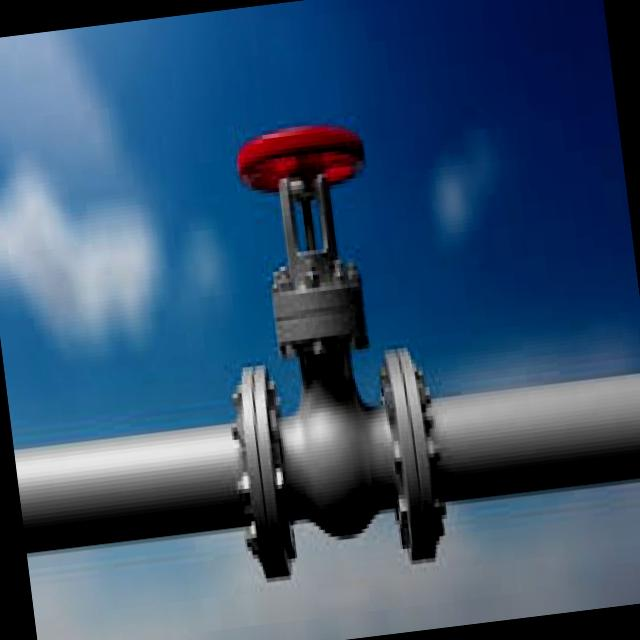gas: (172, 83, 480, 617), (209, 112, 396, 374), (14, 423, 252, 551), (429, 377, 640, 502), (264, 391, 396, 527)
